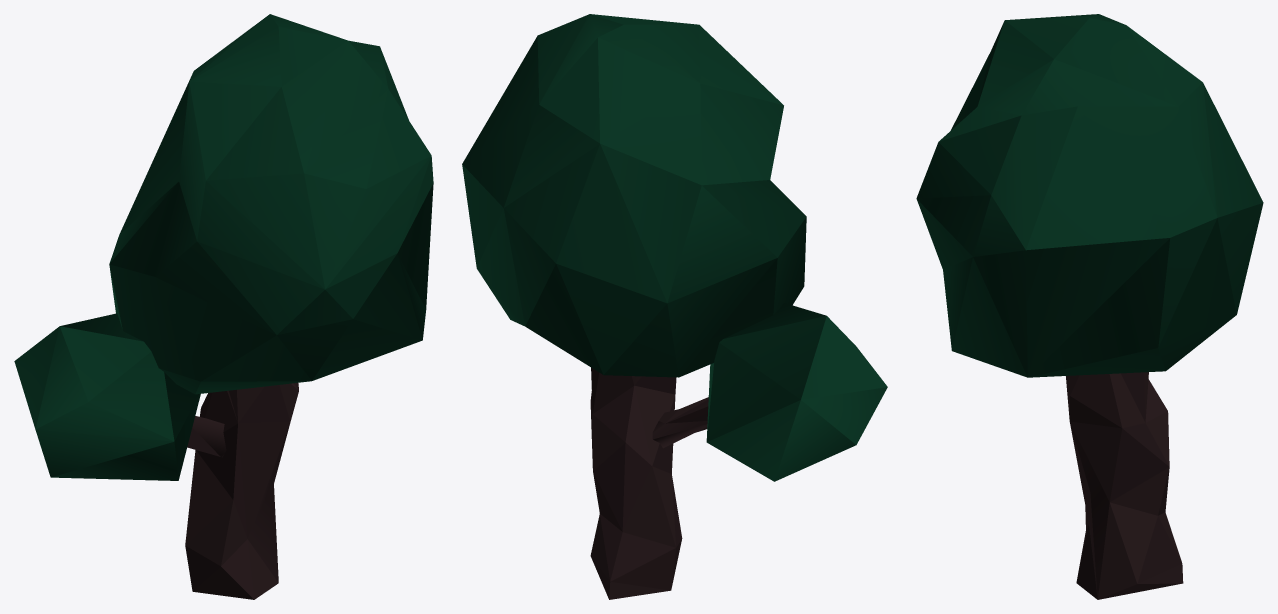
Rendered from tree_01.fbx.
3 renders of one model, left to right at view 1: azimuth 30°, elevation 25°; view 2: azimuth 150°, elevation 25°; view 3: azimuth 270°, elevation 25°, orthographic. The views are drawn at different scales.
Parts seen in each view (by area): view 1: Sphere001; view 2: Sphere001; view 3: Sphere001.
Part boxes in pixels (bbox=[...]): Sphere001: bbox=[14, 14, 433, 599]; Sphere001: bbox=[462, 14, 887, 599]; Sphere001: bbox=[916, 14, 1263, 599].
Size of the model in its own units: 71.36 by 98.26 by 53.18.
